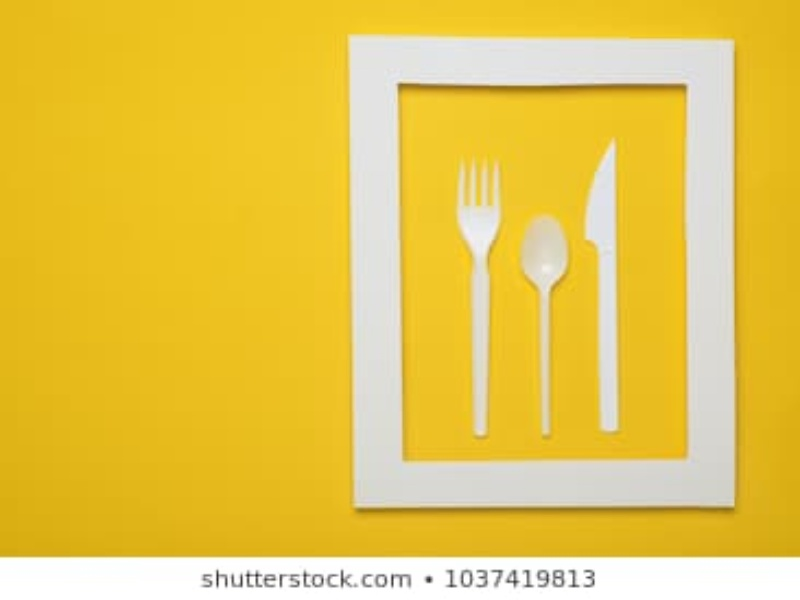plastic-silverware: (456, 158, 506, 440), (580, 138, 623, 433), (518, 216, 572, 440)
